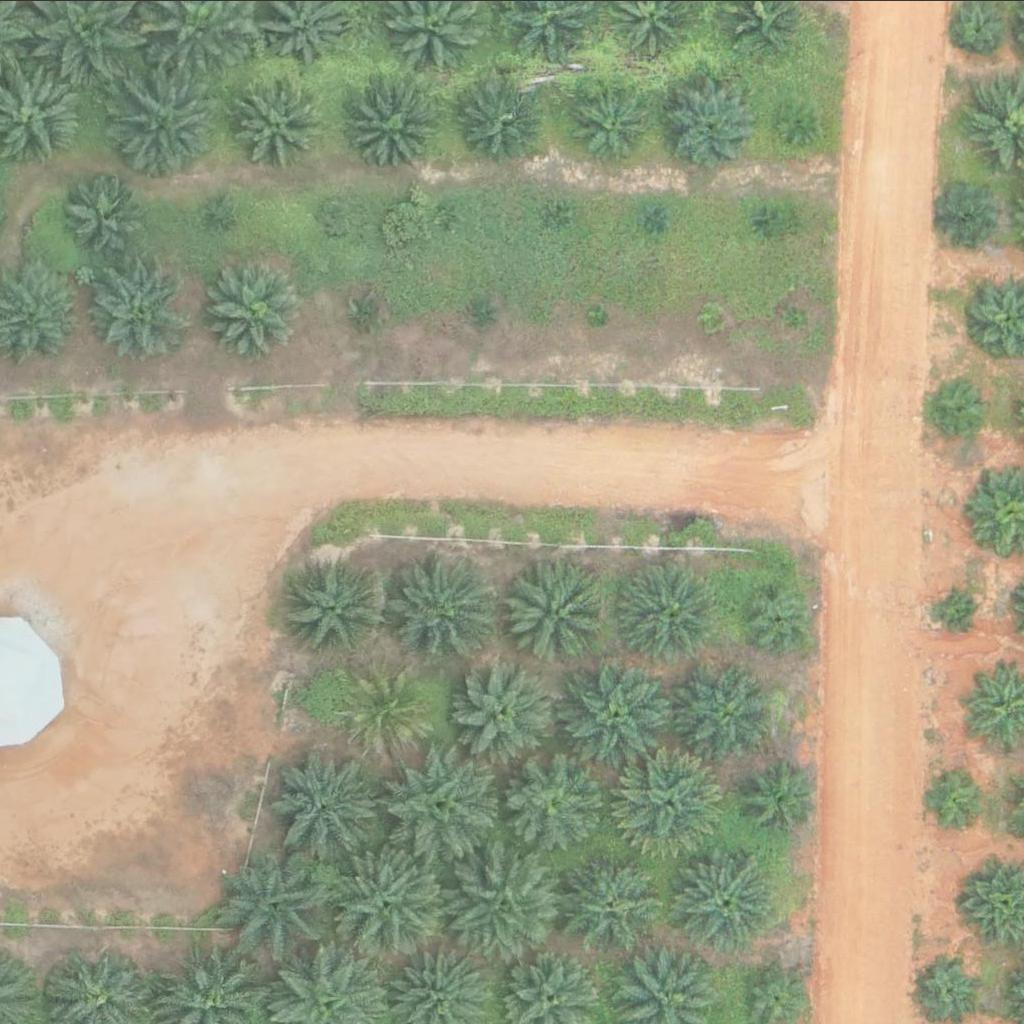Kelapa_Sawit: (106, 67, 220, 180), (269, 743, 383, 856), (385, 745, 499, 858), (220, 845, 334, 958), (558, 656, 671, 769), (326, 846, 440, 958), (619, 744, 732, 856), (655, 68, 768, 180), (384, 549, 497, 661), (451, 849, 564, 961), (89, 259, 190, 359), (197, 261, 298, 361), (284, 559, 385, 659), (676, 662, 777, 762), (567, 853, 668, 953), (674, 849, 775, 949), (504, 564, 604, 664), (618, 559, 718, 659), (457, 658, 557, 758), (507, 752, 607, 852), (566, 74, 655, 162), (458, 77, 546, 165), (347, 665, 435, 753), (230, 77, 318, 164), (352, 84, 440, 171), (59, 171, 147, 258), (740, 578, 816, 653), (746, 760, 821, 835), (939, 184, 1002, 247), (919, 956, 982, 1018), (920, 770, 983, 832), (932, 375, 995, 437), (956, 2, 1006, 52), (322, 195, 360, 233), (777, 102, 815, 140), (940, 588, 978, 625), (207, 195, 232, 220), (437, 199, 462, 224), (553, 205, 578, 230), (357, 299, 382, 324), (470, 299, 495, 324), (588, 303, 613, 328), (700, 307, 725, 332), (784, 304, 809, 329), (642, 204, 667, 229), (752, 211, 777, 236)
